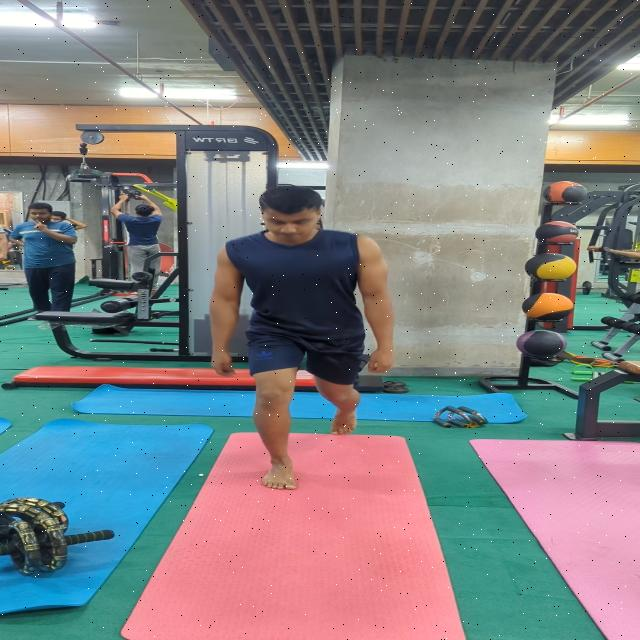Normal_Lunges: (208, 184, 398, 495)
